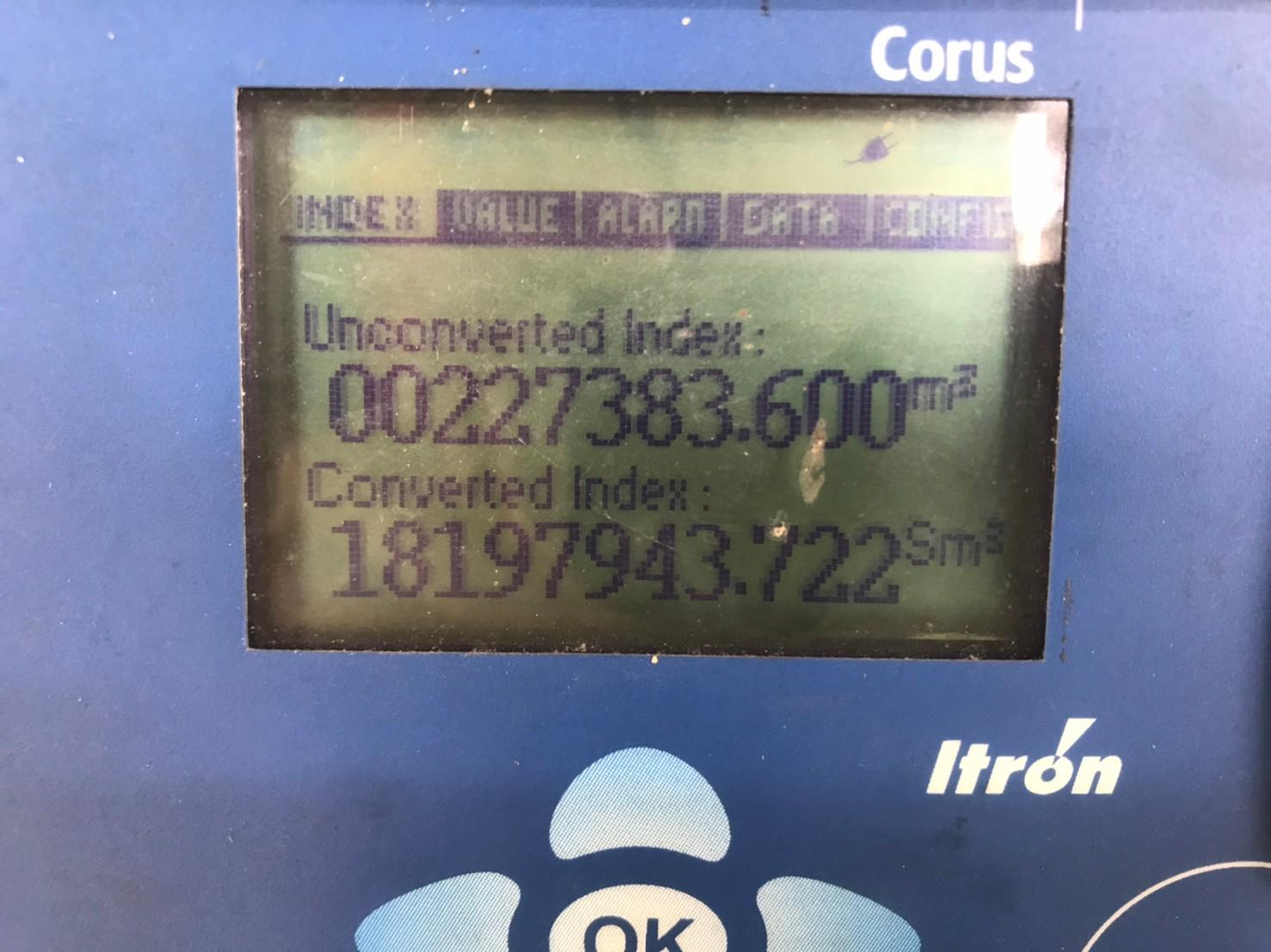digital_screen: (231, 87, 1071, 659)
